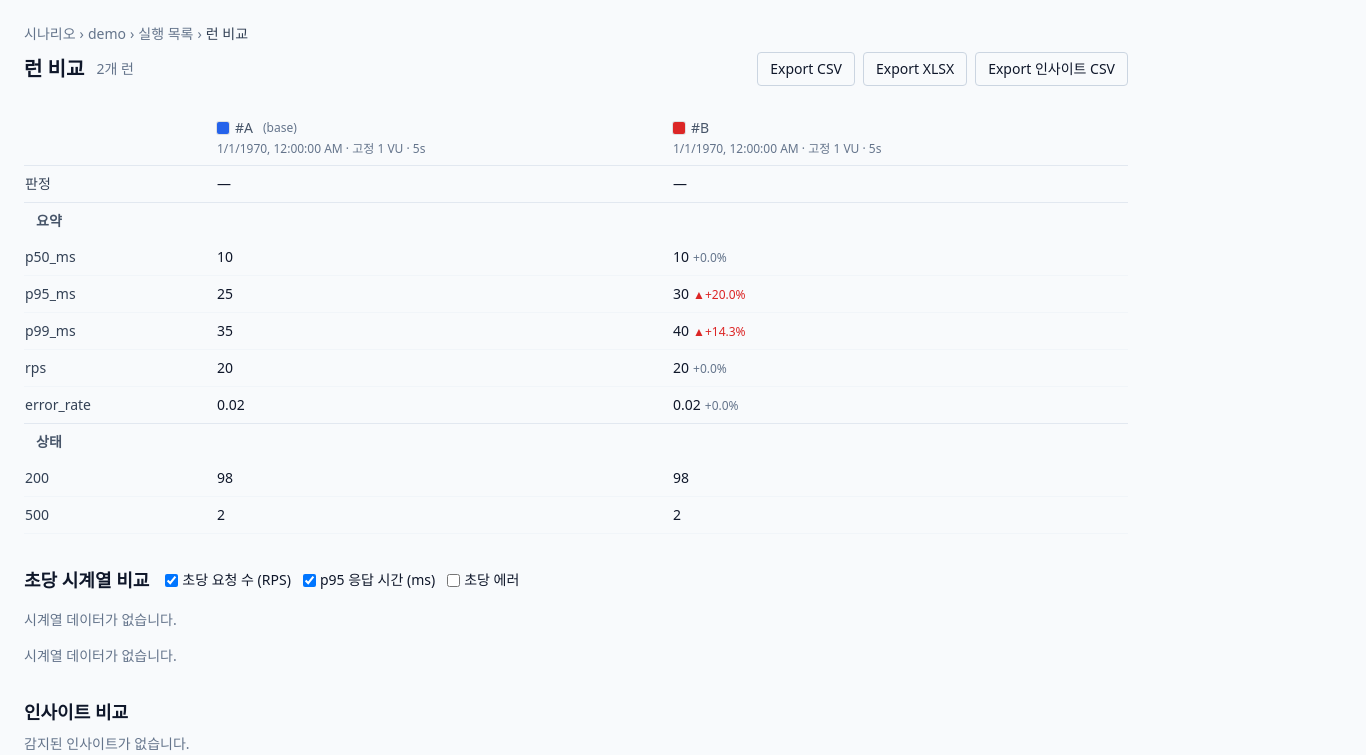
Test: ScenarioComparePage › shows export error banner with role=alert when download fails
This screenshot has width=1366, height=755.
Expected: the text "p95_ms" is shown, [24,276,216,312]
Click the button "Export CSV" at (806, 69), box [757,52,855,86]
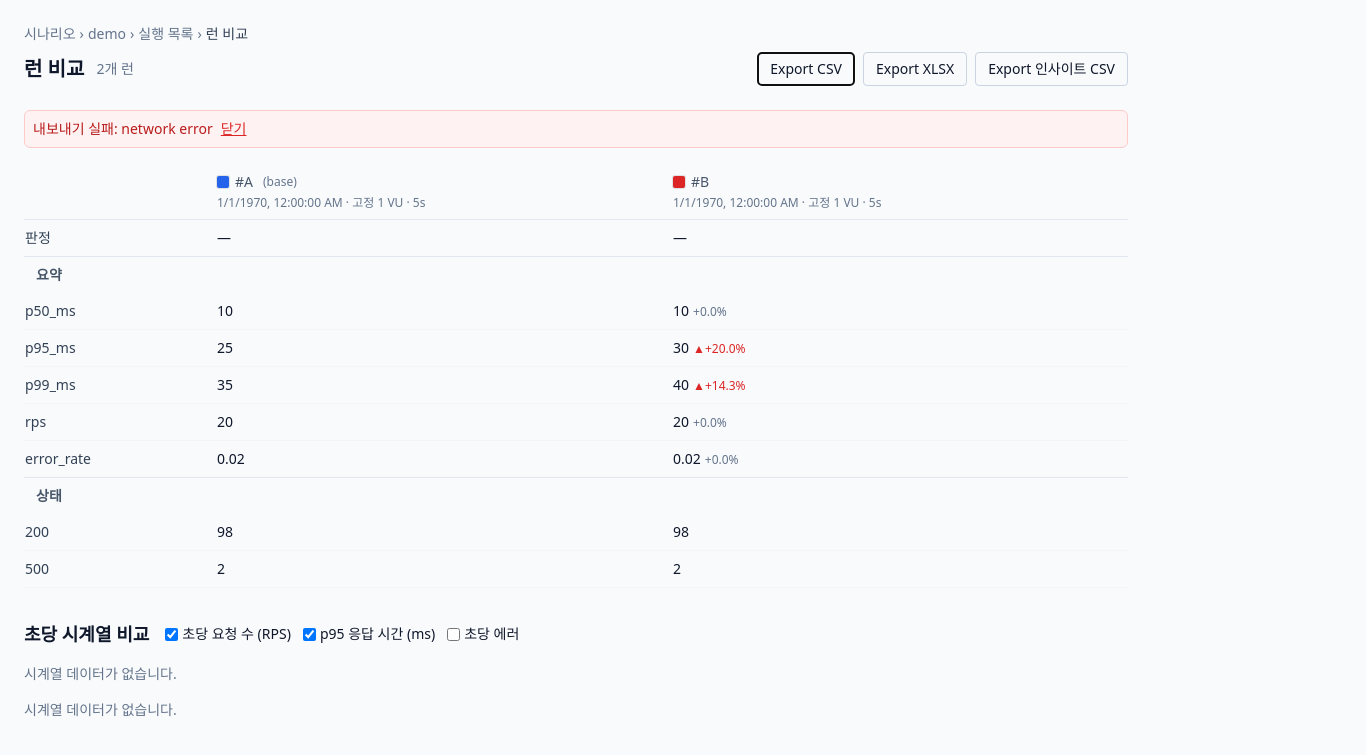
Result: the message "내보내기 실패: network error 닫기" is shown at [24,110,1128,148]
